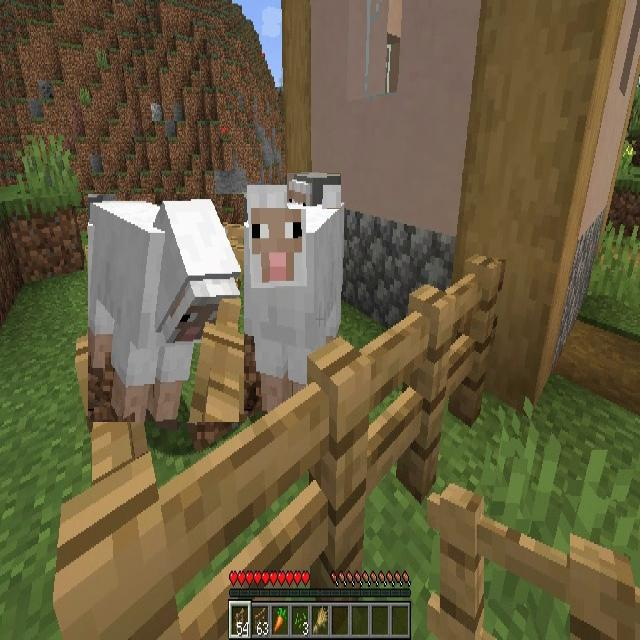sheep: (88, 194, 244, 422), (253, 190, 345, 416), (287, 173, 341, 209)
